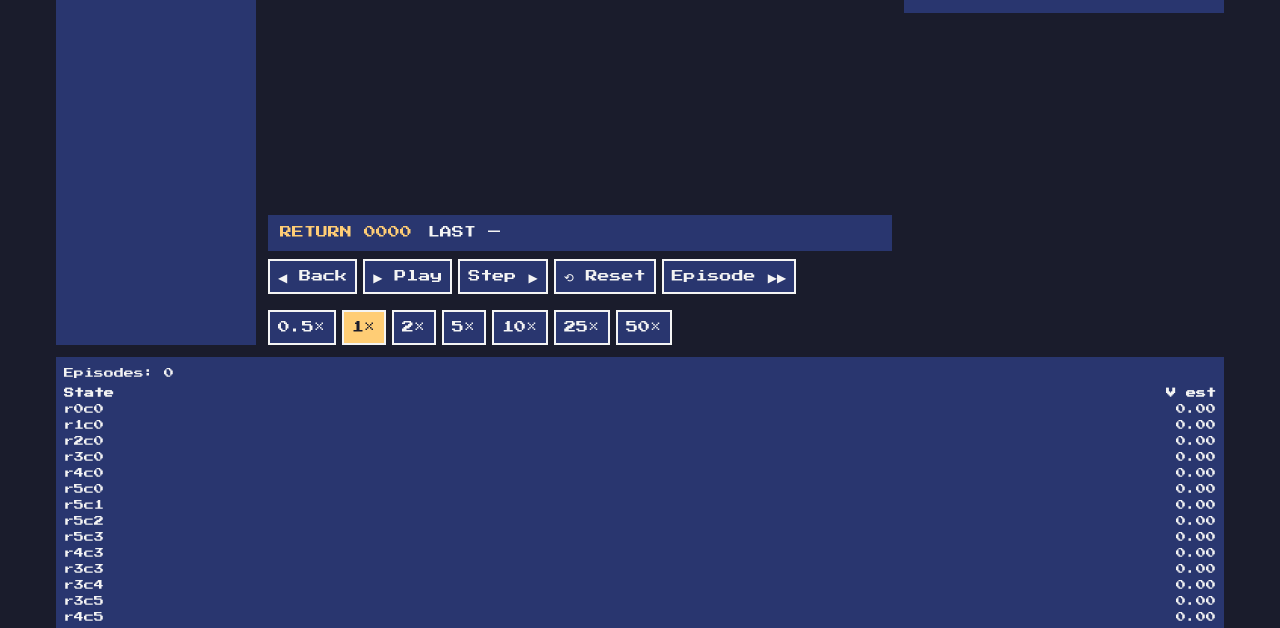
it: GridWorldExample › advances the episode counter when stepping forward
(page scrolled)
Click the button with aria-label "Run one episode".
click(729, 276)  # box left=662, top=259, right=796, bottom=294
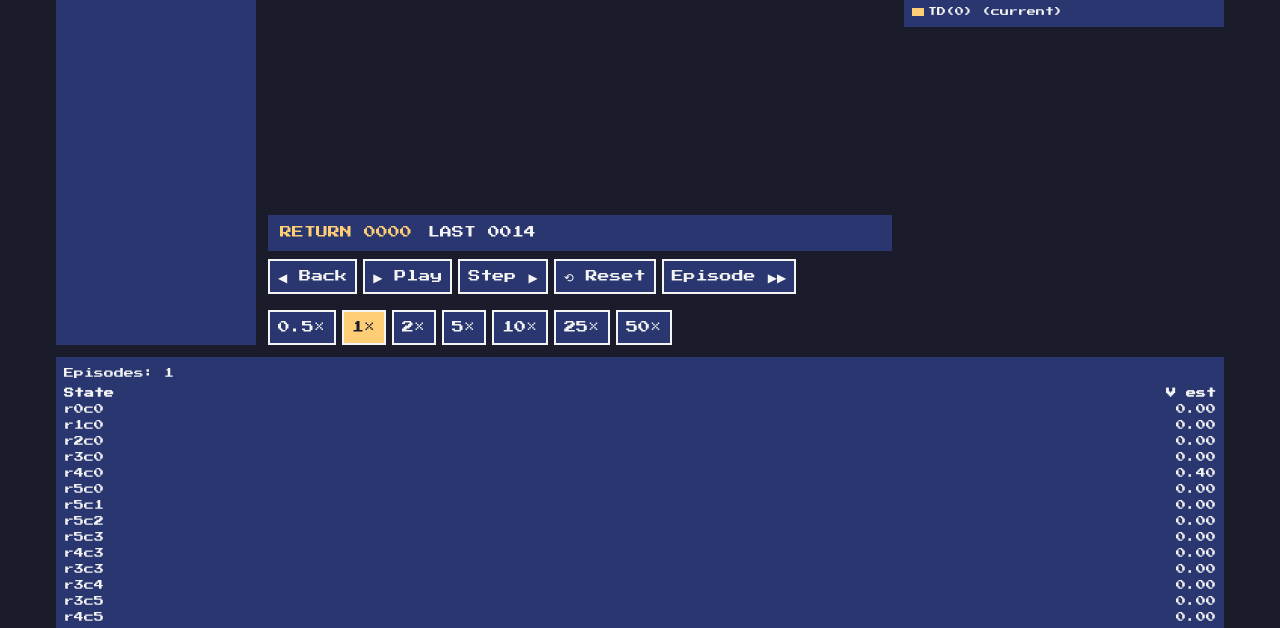
Expected: the text "Episodes: 1" is shown, left=64, top=365, right=174, bottom=381
